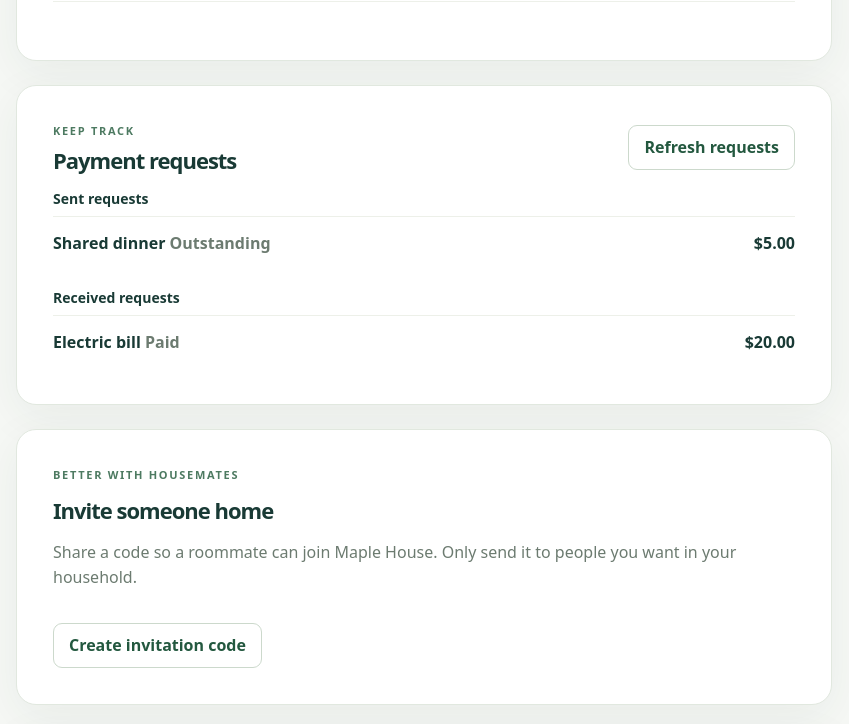
Test case: payment request frontend › shows sent and received requests with paid status and detail fields
(page scrolled)
Expected: the text "Electric bill" is shown, [53,331,141,353]
Expected: the element "Sent requests" shows "Shared dinner", [53,217,795,270]
Click the button with aria-label "View request r2". click: x=97, y=342
box: [53,316,795,368]
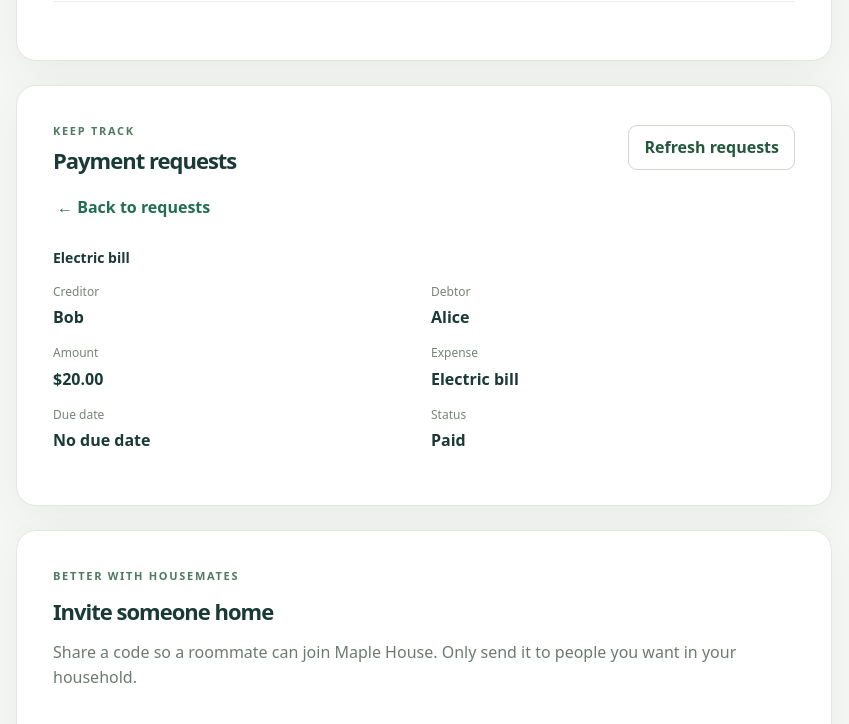
Now the heading "Electric bill" is shown, box [53,248,130,267]
Now the element "Payment requests" shows "Creditor", box [53,283,99,300]
Now the element "Payment requests" shows "Bob", box [53,306,84,328]
Click the button "← Back to requests". click: x=134, y=208
box: [53,191,214,224]
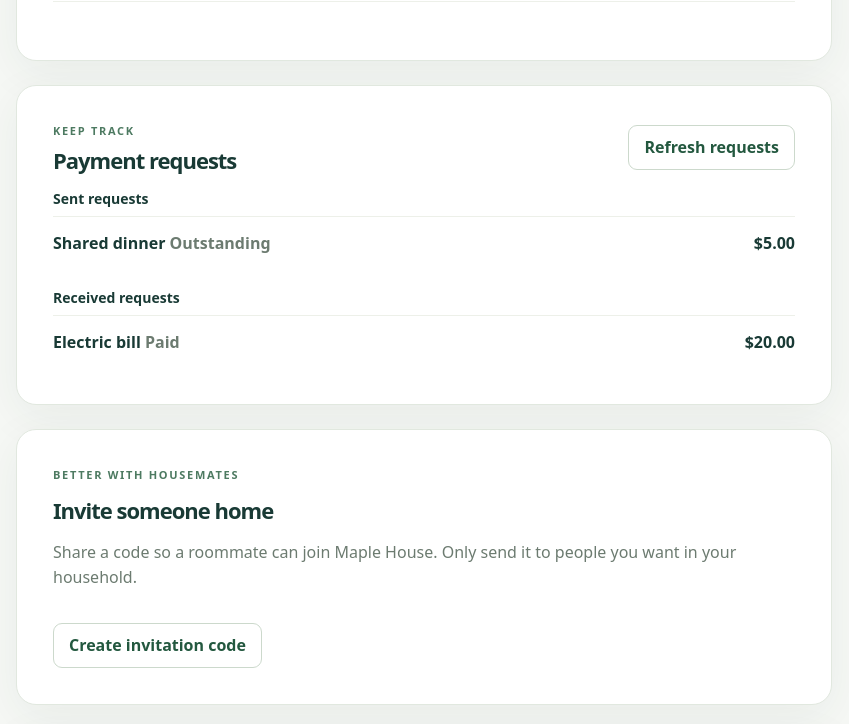
Now the element "Received requests" is shown, box [53,290,795,368]
